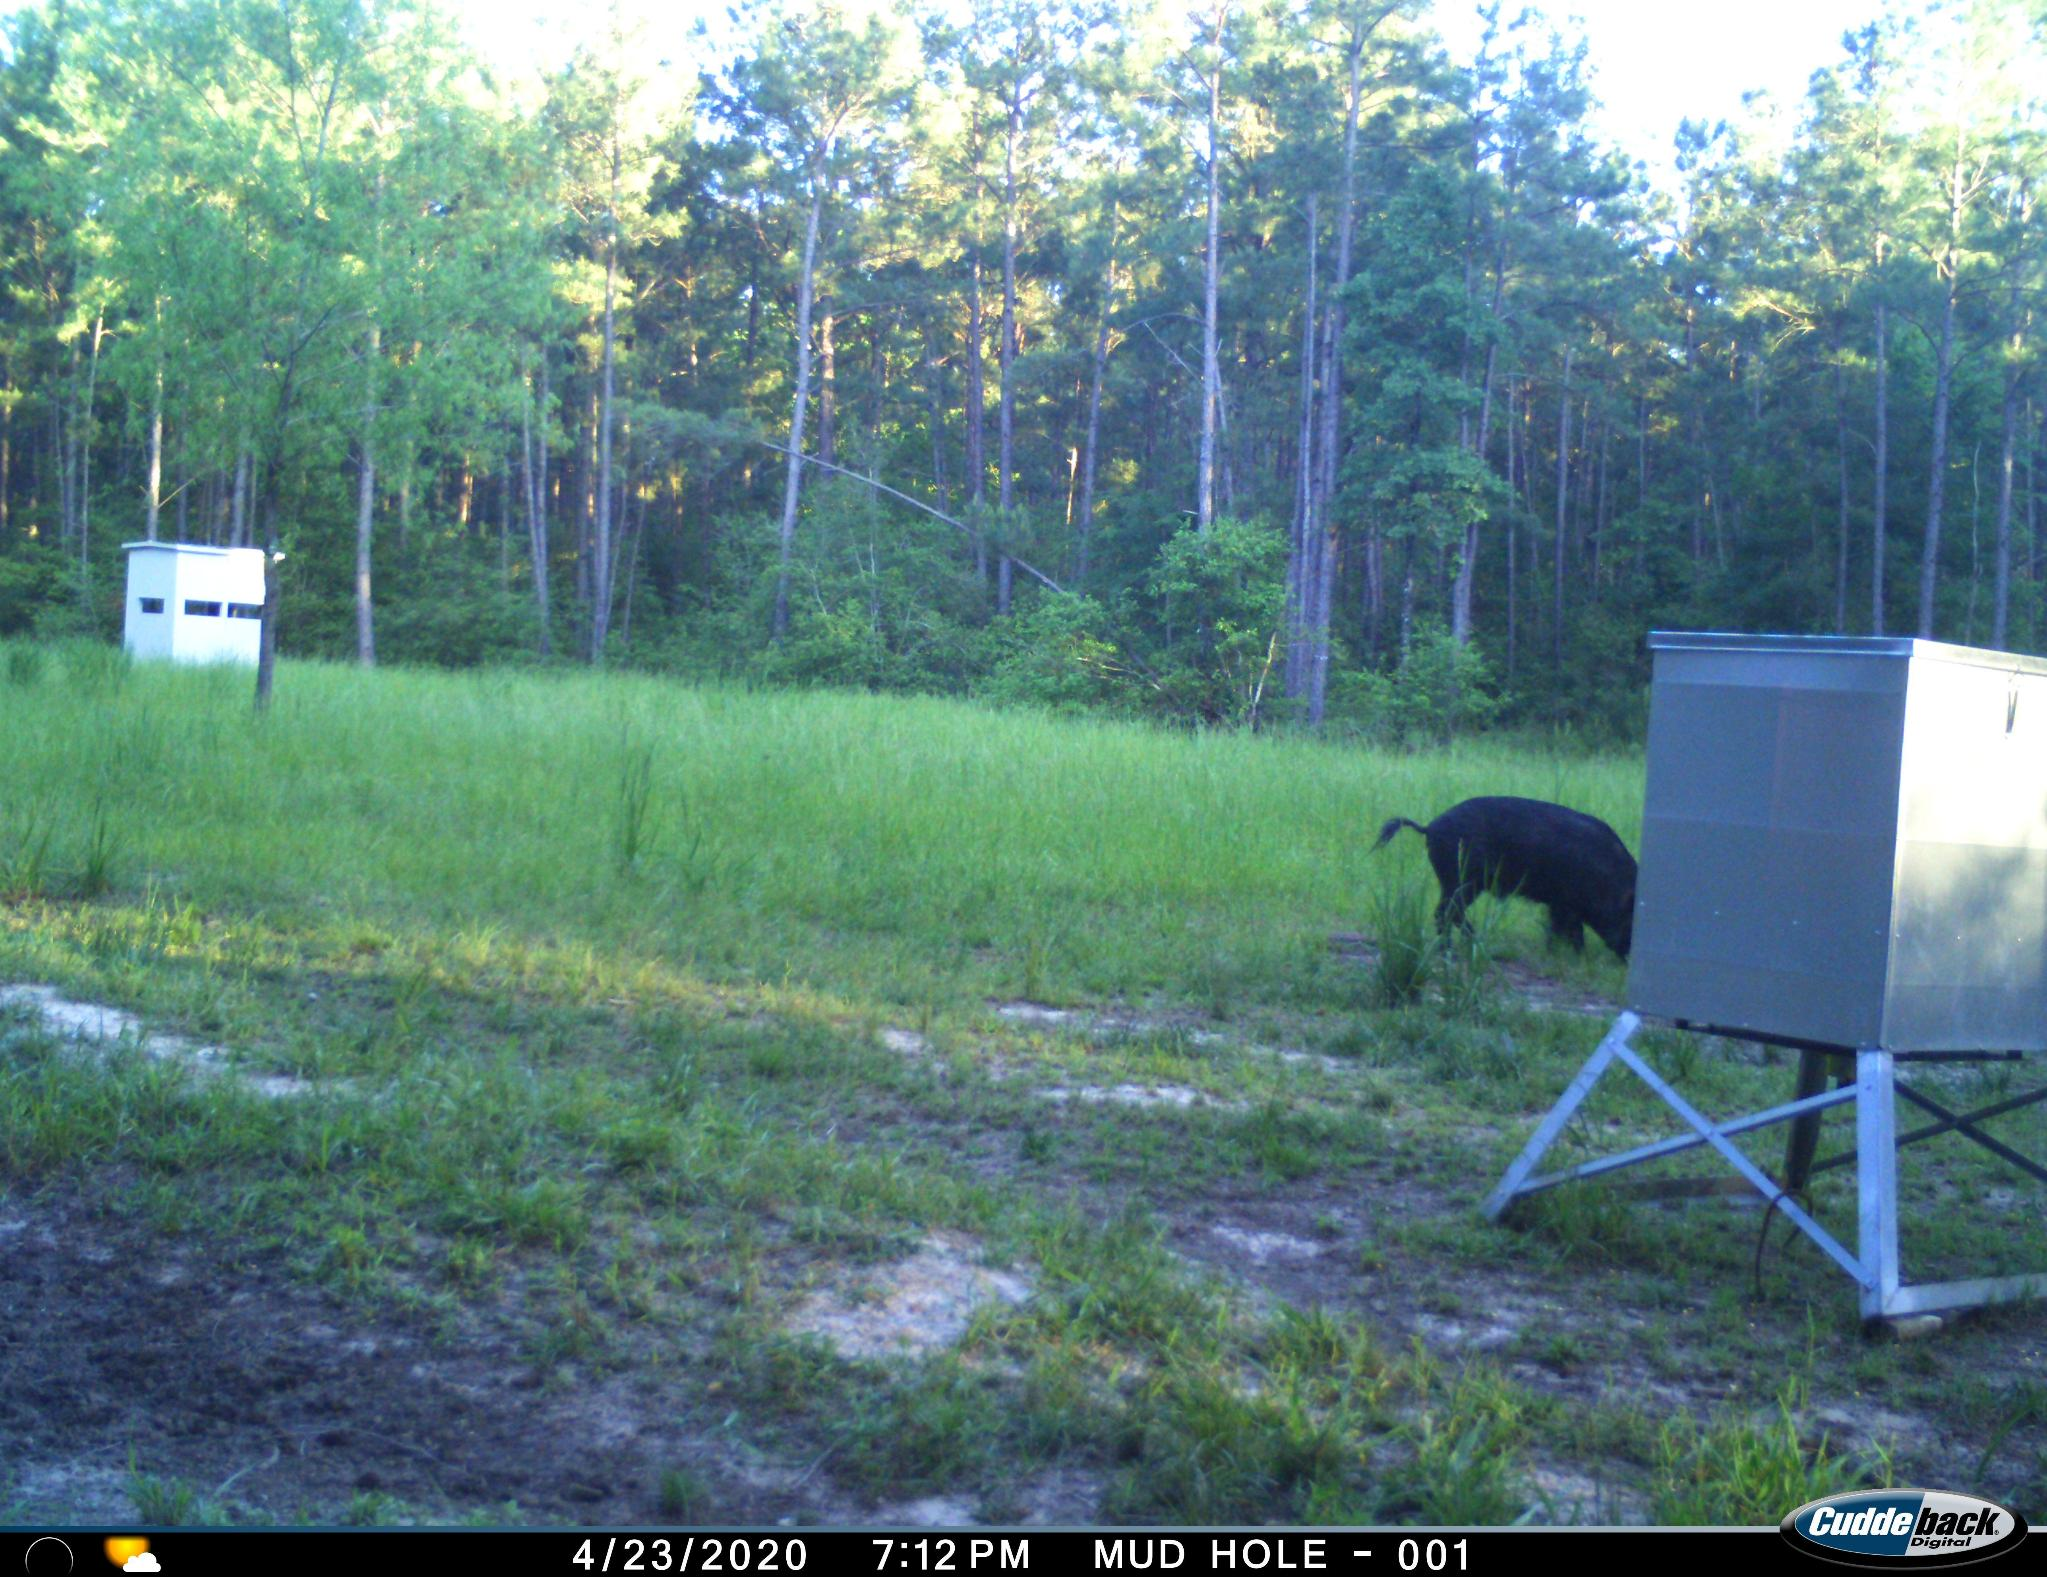Hog: (1373, 792, 1643, 977)
